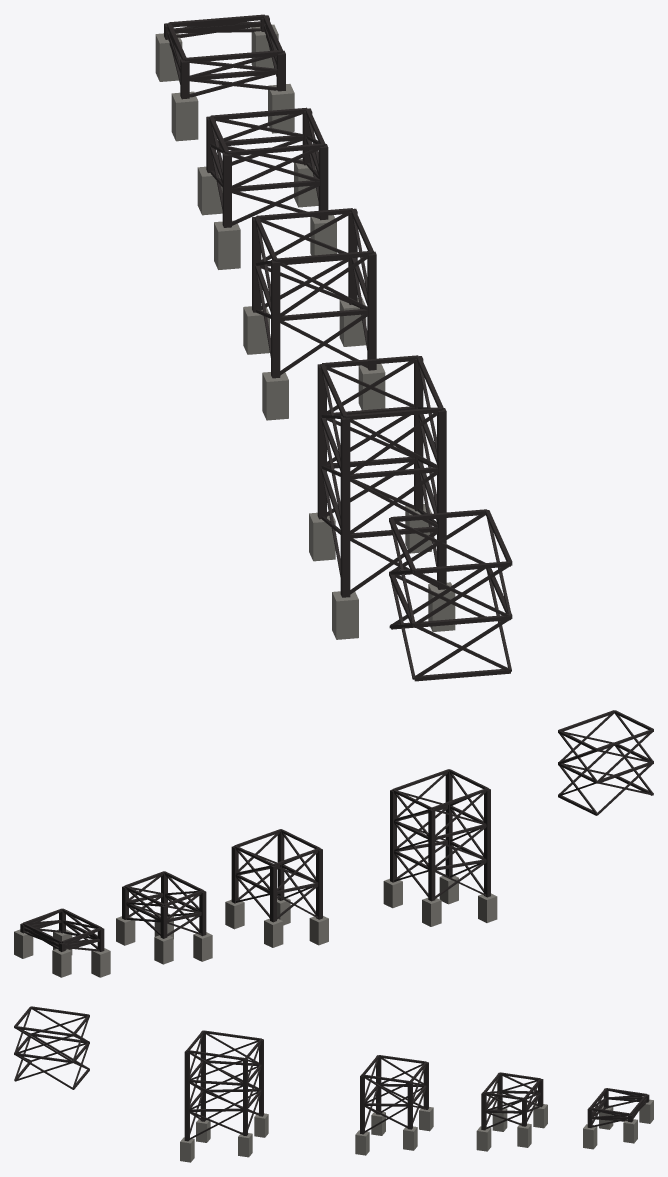
The model's file is br_r10_high_level_2.gltf.
The picture shows the model from 3 angles, top to bottom: view 1: azimuth 30°, elevation 25°; view 2: azimuth 150°, elevation 25°; view 3: azimuth 270°, elevation 25°; orthographic projection. The views are drawn at different scales.
Parts seen in each view (by area): view 1: br_r10_high_level_2; view 2: br_r10_high_level_2; view 3: br_r10_high_level_2.
Boxes of the visible parts, x1,y1,x2,y2 form: br_r10_high_level_2: (155, 14, 512, 681); br_r10_high_level_2: (14, 710, 653, 977); br_r10_high_level_2: (14, 1006, 653, 1162).
Bounding box in the file's own units: 65.7 × 29.93 × 157.
